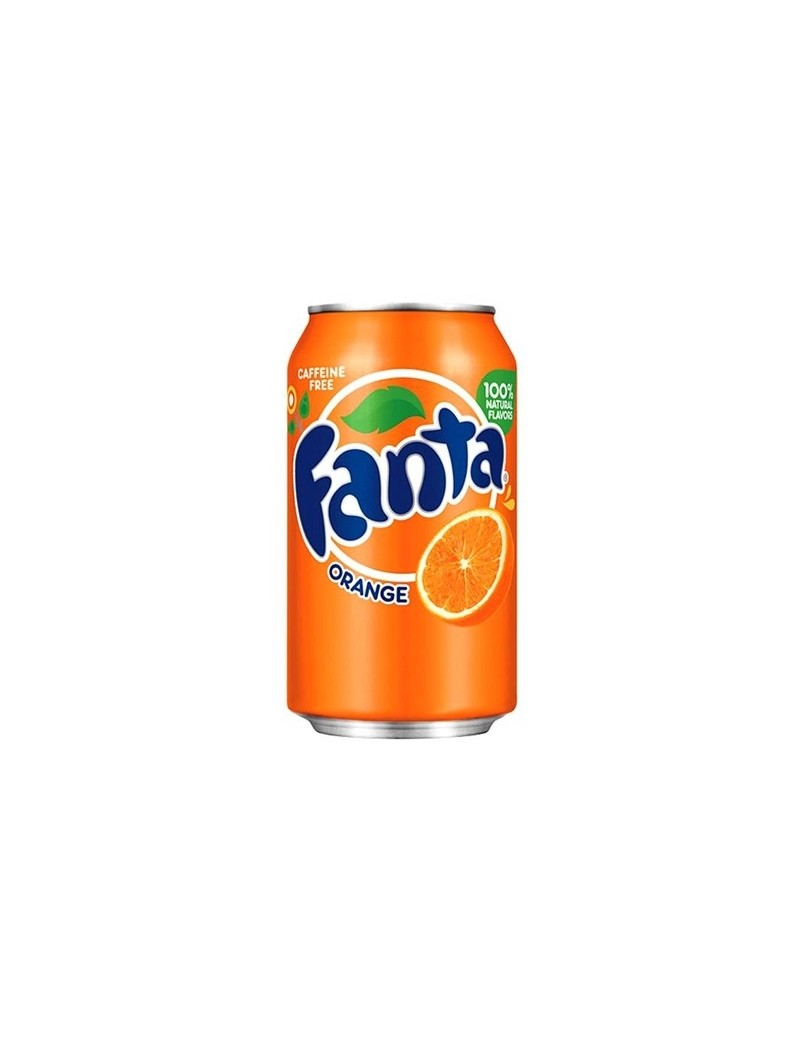fanta_can: (283, 301, 521, 742)
